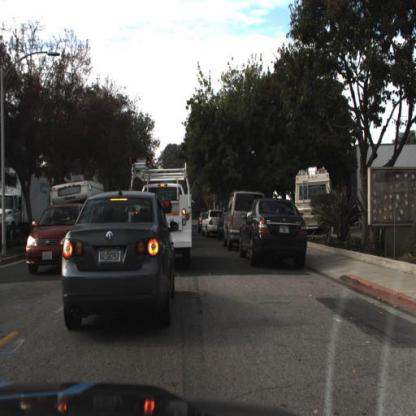car: (62, 195, 174, 325), (237, 198, 308, 266), (19, 202, 78, 283), (24, 199, 83, 277), (164, 159, 199, 271), (48, 175, 108, 224), (295, 168, 331, 230), (223, 193, 262, 246), (221, 188, 241, 253), (201, 208, 222, 235)
truck: (142, 172, 192, 258), (284, 160, 333, 238), (1, 168, 52, 232), (58, 182, 91, 238)
